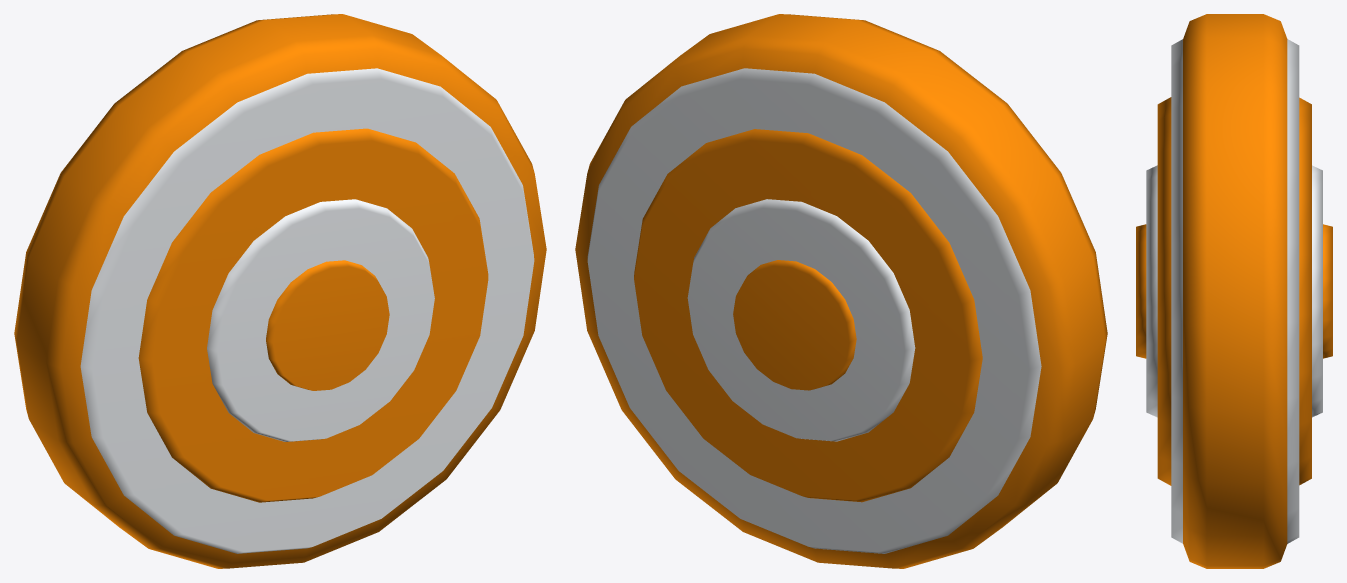
Rendered from lollipop_010.glb.
The picture shows the model from 3 angles, left to right: view 1: azimuth 30°, elevation 25°; view 2: azimuth 150°, elevation 25°; view 3: azimuth 270°, elevation 25°; orthographic projection. The views are drawn at different scales.
Parts seen in each view (by area): view 1: lollipop_010; view 2: lollipop_010; view 3: lollipop_010.
Boxes of the visible parts, box(x1,y1,x2,y2) form: lollipop_010: box(14, 14, 546, 568); lollipop_010: box(575, 14, 1107, 568); lollipop_010: box(1136, 14, 1332, 568).
Bounding box in the file's own units: 4.44 × 4.44 × 1.56.
Materials: 1 (1 with a texture image).
